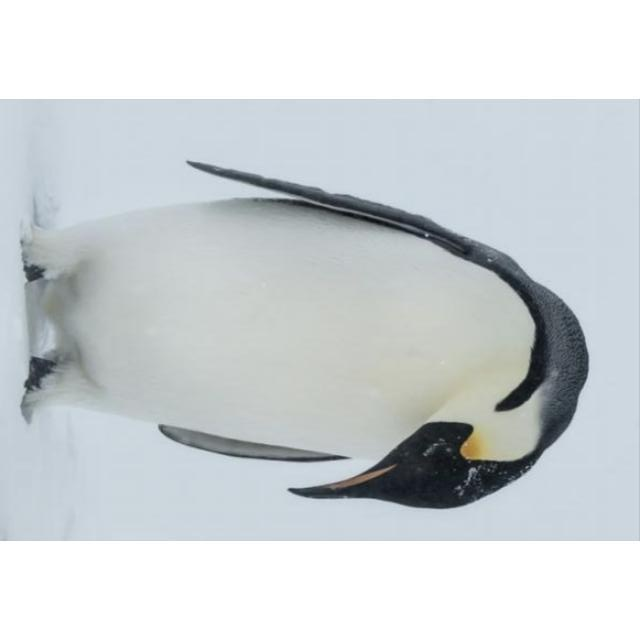penguin: (17, 158, 593, 509)
